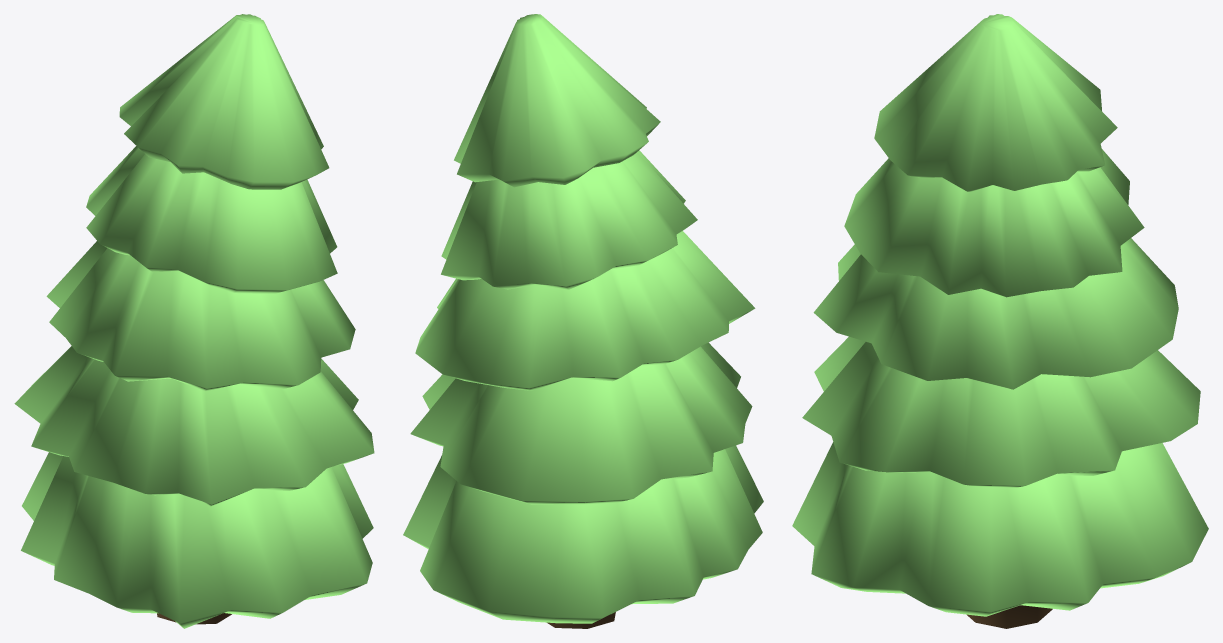
Rendered from Tree.fbx.
3 renders of one model, left to right at view 1: azimuth 30°, elevation 25°; view 2: azimuth 150°, elevation 25°; view 3: azimuth 270°, elevation 25°, orthographic. The views are drawn at different scales.
Parts seen in each view (by area): view 1: Tree; view 2: Tree; view 3: Tree.
Part boxes in pixels (<box>): Tree: <box>14,14,374,628</box>; Tree: <box>403,14,763,628</box>; Tree: <box>792,14,1208,628</box>.
Bounding box in the file's own units: 709 × 1293 × 793.
